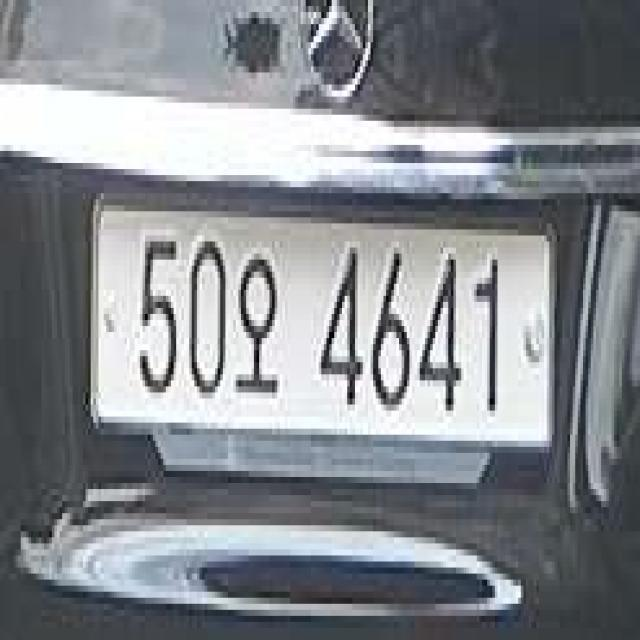0: (188, 221, 230, 407)
1: (471, 242, 508, 429)
4: (315, 234, 369, 427), (418, 242, 470, 422)
5: (134, 221, 182, 400)
6: (370, 239, 413, 424)
license_plate: (73, 200, 573, 472)
o: (232, 226, 288, 412)
